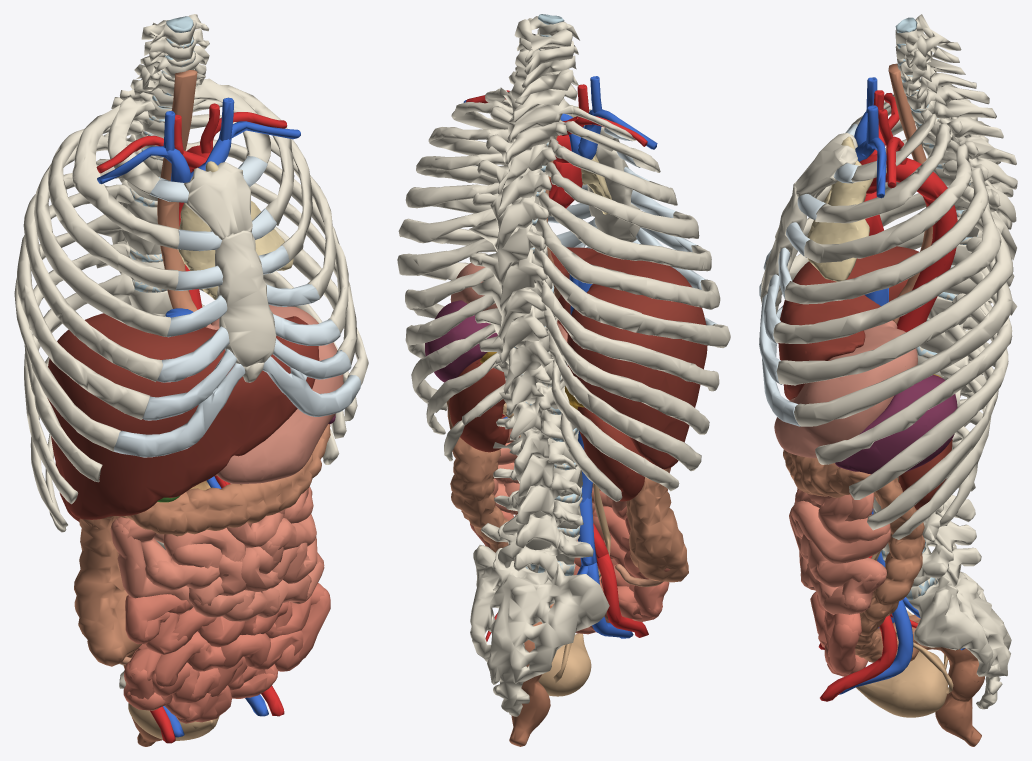
The model's file is anatomyverse-organs.glb.
3 views of the same model, side by side, from view 1: azimuth 30°, elevation 25°; view 2: azimuth 150°, elevation 25°; view 3: azimuth 270°, elevation 25° (orthographic). The views are drawn at different scales.
Parts seen in each view (by area): view 1: rib_cage_R, liver, ileum, jejunum, rib_cage_L, large_intestine, costal_cartilages_R, sternum, vertebral_column, costal_cartilages_L, stomach_lower_body, oesophagus_thoracic (+12 smaller); view 2: vertebral_column, rib_cage_R, rib_cage_L, liver, large_intestine, ileum, kidney_L, kidney_R, costal_cartilages_R, sternum, spleen, urinary_bladder (+10 smaller); view 3: rib_cage_L, vertebral_column, jejunum, large_intestine, liver, stomach_lower_body, costal_cartilages_L, spleen, sternum, urinary_bladder, aorta, rectum (+12 smaller).
Boxes of the visible parts, x1,y1,x2,y2 form: rib_cage_R: [14, 97, 179, 532]; liver: [47, 313, 319, 519]; ileum: [123, 583, 330, 723]; jejunum: [110, 486, 324, 621]; rib_cage_L: [185, 78, 368, 464]; large_intestine: [74, 424, 330, 666]; costal_cartilages_R: [114, 177, 245, 457]; sternum: [184, 162, 276, 382]; vertebral_column: [96, 14, 209, 688]; costal_cartilages_L: [238, 156, 360, 416]; stomach_lower_body: [261, 342, 343, 482]; oesophagus_thoracic: [157, 106, 194, 309]; vertebral_column: [469, 16, 609, 716]; rib_cage_R: [534, 106, 730, 501]; rib_cage_L: [397, 88, 512, 461]; liver: [550, 247, 707, 469]; large_intestine: [446, 399, 688, 606]; ileum: [470, 500, 677, 634]; kidney_L: [449, 358, 509, 452]; kidney_R: [577, 406, 644, 501]; costal_cartilages_R: [604, 127, 717, 325]; sternum: [573, 106, 640, 242]; spleen: [425, 300, 497, 382]; urinary_bladder: [538, 633, 591, 696]; rib_cage_L: [773, 109, 1013, 539]; vertebral_column: [873, 14, 1017, 709]; jejunum: [789, 488, 890, 614]; large_intestine: [783, 449, 932, 662]; liver: [778, 246, 918, 399]; stomach_lower_body: [774, 349, 917, 458]; costal_cartilages_L: [759, 163, 859, 426]; spleen: [835, 375, 957, 474]; sternum: [760, 133, 857, 313]; urinary_bladder: [856, 651, 947, 717]; aorta: [859, 129, 957, 514]; rectum: [932, 647, 984, 746].
Size of the model in its own units: 0.3007 by 0.7042 by 0.2286.
